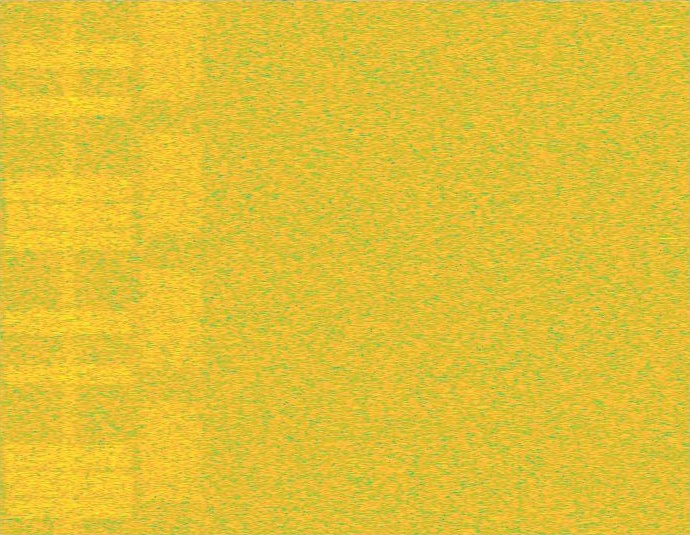5G: (138, 0, 207, 534)
DSSS: (60, 0, 78, 534)
LTE: (0, 0, 138, 534)
Radar: (661, 0, 675, 534)
